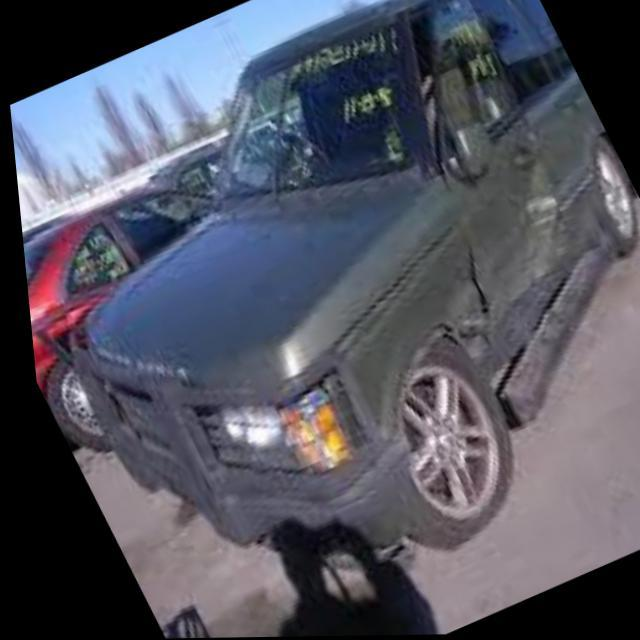dislocated part: (406, 4, 590, 431)
